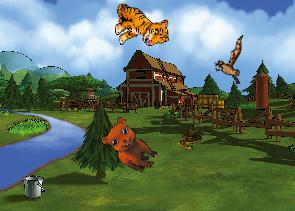bear: (96, 113, 166, 176)
eagle: (208, 35, 254, 89)
tiger: (112, 0, 169, 49)
